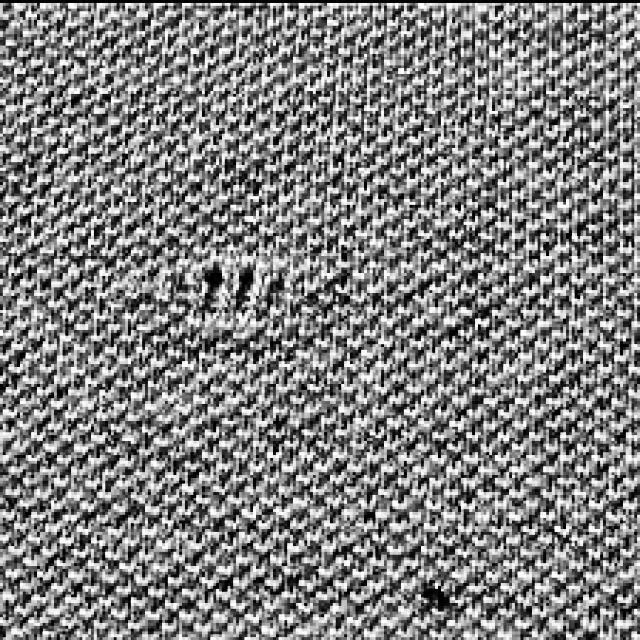Hole: (135, 247, 373, 352)
